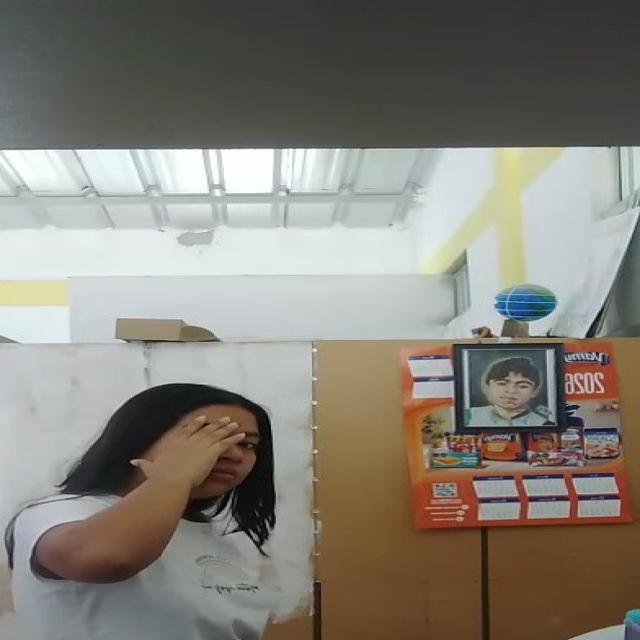7_mano_rostro: (134, 414, 240, 496)
